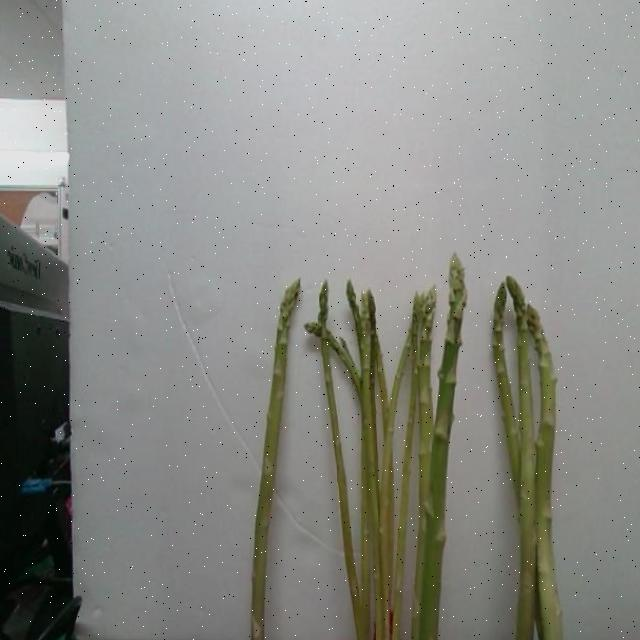aspargus: (415, 255, 466, 640), (247, 281, 301, 640)
